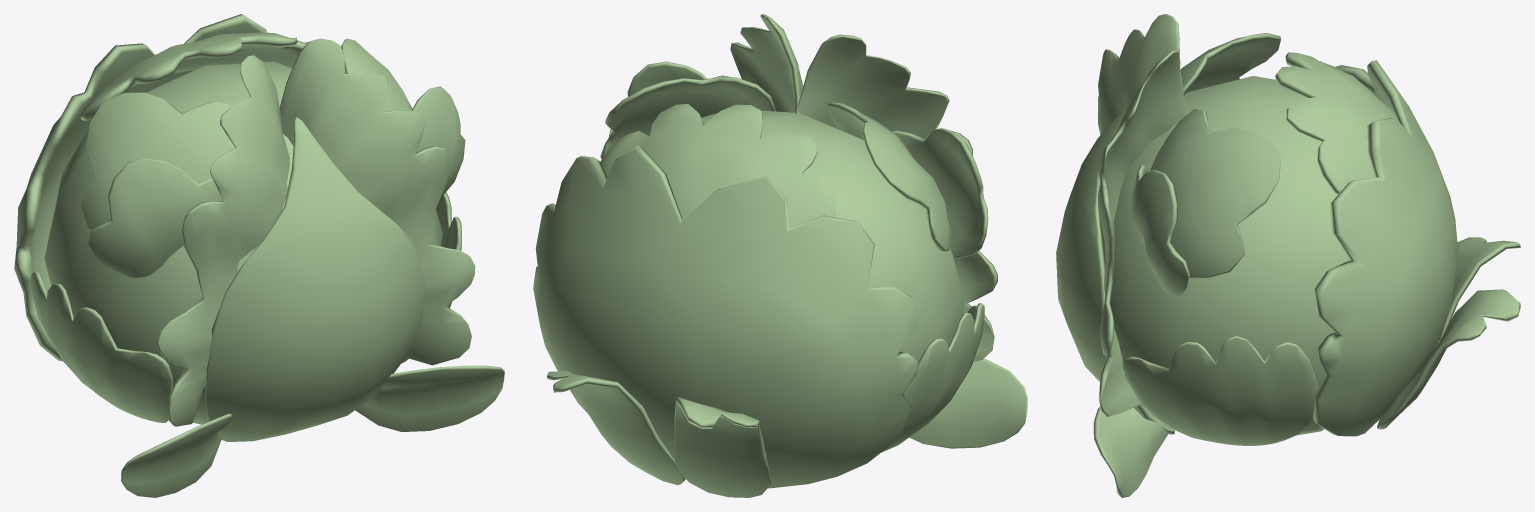
The model's file is Lechuga low prueba.fbx.
The picture shows the model from 3 angles, left to right: view 1: azimuth 30°, elevation 25°; view 2: azimuth 150°, elevation 25°; view 3: azimuth 270°, elevation 25°; orthographic projection. The views are drawn at different scales.
Parts seen in each view (by area): view 1: Low_HojaCara, Low_decoFront_Izq_1, Low_decoFront_Der_1, Low_centro, Low_decoFront_Der_3, Low_Hoja_Tras_1, Low_decoFront_Der_2, Low_HojaLat_Der, Low_Hojita_izq, Low_Hoja_Tras_2, Low_Hojita_Der, Low_decoFront_Izq_2 (+2 smaller); view 2: Low_Hoja_Tras_1, Low_centro, Low_Hoja_Tras_2, Low_decoFront_Der_1, Low_HojaTras_Der, Low_Hojita_Der, Low_decoFront_Der_2, Low_HojaTras_izq, Low_decoFront_Izq_3, Low_decoFront_Der_3, Low_HojaLat_Der, Low_decoFront_Izq_1 (+1 smaller); view 3: Low_centro, Low_Hoja_Tras_1, Low_HojaLat_Izq, Low_decoFront_Izq_3, Low_decoFront_Izq_1, Low_Hoja_Tras_2, Low_HojaCara, Low_decoFront_Izq_2, Low_decoFront_Der_1, Low_Hojita_izq, Low_HojaTras_izq, Low_decoFront_Der_3 (+1 smaller).
Part boxes in pixels (x1,y1,x2,y2): Low_HojaCara: (205, 117, 425, 441); Low_decoFront_Izq_1: (279, 38, 475, 365); Low_decoFront_Der_1: (157, 55, 289, 426); Low_centro: (44, 61, 442, 424); Low_decoFront_Der_3: (81, 92, 234, 229); Low_Hoja_Tras_1: (14, 14, 345, 361); Low_decoFront_Der_2: (88, 158, 223, 277); Low_HojaLat_Der: (30, 271, 173, 422); Low_Hojita_izq: (355, 365, 504, 431); Low_Hoja_Tras_2: (79, 32, 306, 120); Low_Hojita_Der: (121, 413, 233, 497); Low_decoFront_Izq_2: (411, 86, 465, 198); Low_Hoja_Tras_1: (533, 145, 917, 488); Low_centro: (701, 110, 964, 363); Low_Hoja_Tras_2: (600, 104, 835, 227); Low_decoFront_Der_1: (795, 34, 997, 361); Low_HojaTras_Der: (674, 397, 770, 497); Low_Hojita_Der: (909, 358, 1027, 448); Low_decoFront_Der_2: (892, 128, 988, 259); Low_HojaTras_izq: (547, 370, 685, 485); Low_decoFront_Izq_3: (600, 76, 775, 158); Low_decoFront_Der_3: (828, 102, 951, 251); Low_HojaLat_Der: (881, 303, 984, 452); Low_decoFront_Izq_1: (713, 14, 803, 114); Low_centro: (1100, 76, 1349, 435); Low_Hoja_Tras_1: (1313, 60, 1458, 436); Low_HojaLat_Izq: (1123, 336, 1318, 445); Low_decoFront_Izq_3: (1150, 109, 1281, 278); Low_decoFront_Izq_1: (1098, 50, 1188, 416); Low_Hoja_Tras_2: (1275, 52, 1397, 194); Low_HojaCara: (1056, 106, 1174, 434); Low_decoFront_Izq_2: (1131, 164, 1190, 296); Low_decoFront_Der_1: (1098, 14, 1188, 134); Low_Hojita_izq: (1093, 406, 1169, 497); Low_HojaTras_izq: (1377, 289, 1520, 429); Low_decoFront_Der_3: (1180, 33, 1280, 95).
Size of the model in its own units: 138 by 136 by 145.
